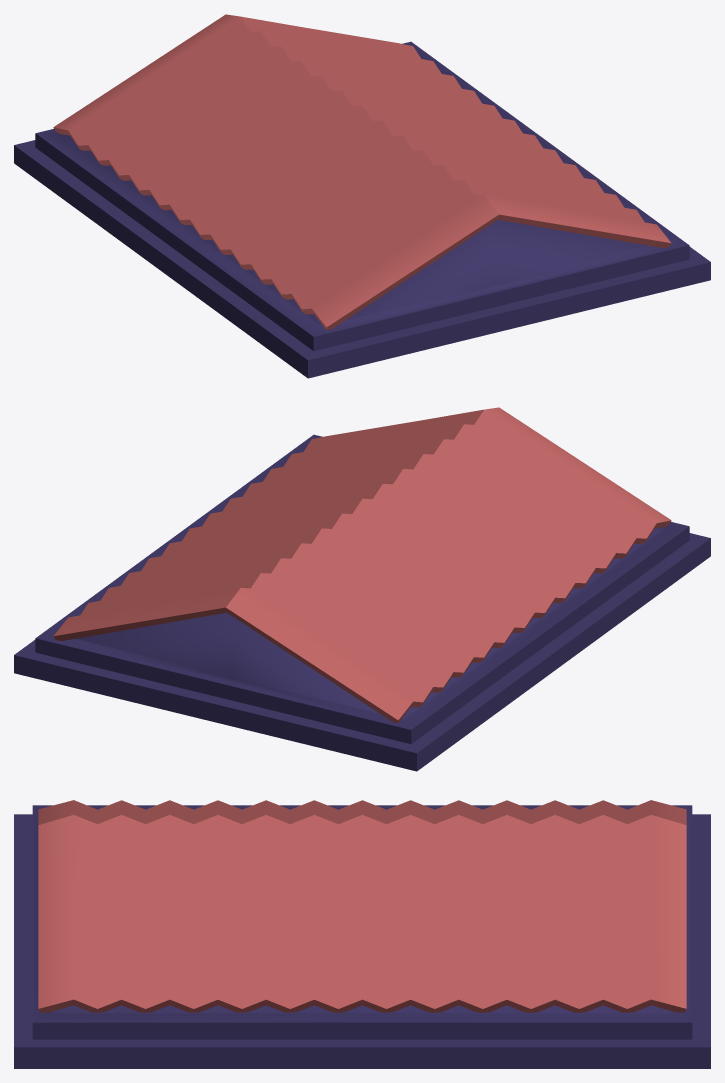
File: GarageTop.fbx
3 renders of one model, top to bottom at view 1: azimuth 30°, elevation 25°; view 2: azimuth 150°, elevation 25°; view 3: azimuth 270°, elevation 25°, orthographic. The views are drawn at different scales.
Visible parts, largest first — view 1: polySurface5; view 2: polySurface5; view 3: polySurface5.
Part boxes in pixels (<box>): polySurface5: <box>14,14,710,378</box>; polySurface5: <box>14,407,710,771</box>; polySurface5: <box>14,800,710,1068</box>.
Bounding box in the file's own units: 1639 × 451 × 2071.
